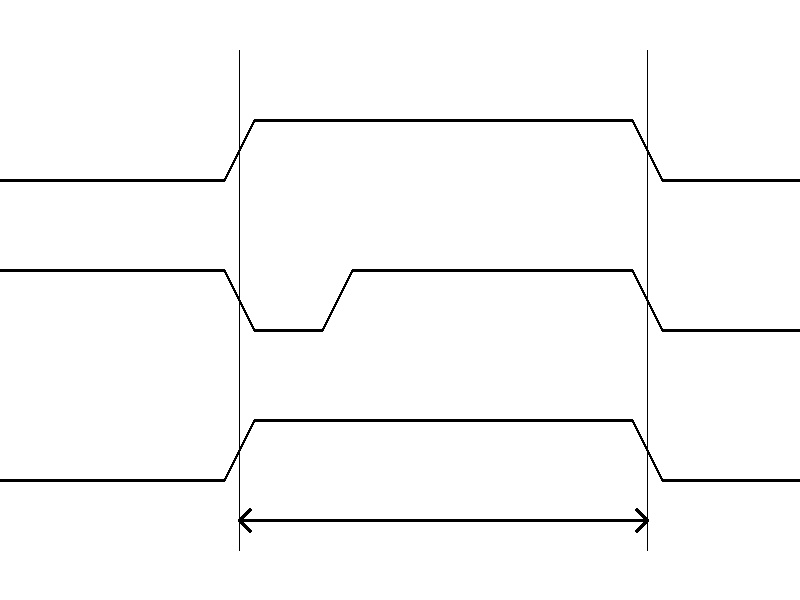double_arrow: (239, 505, 647, 535)
